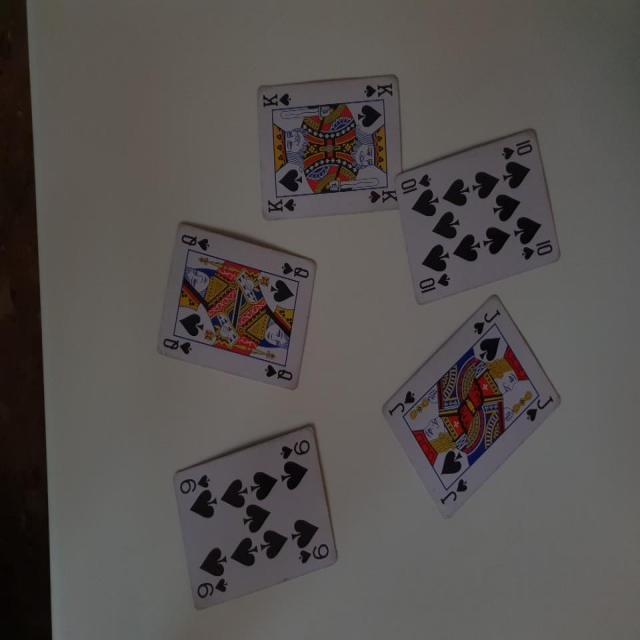10 of spades: (391, 114, 564, 314)
9 of spades: (157, 413, 344, 618)
jack of spades: (373, 287, 564, 528)
king of spades: (250, 65, 405, 226)
queen of spades: (152, 215, 318, 396)
